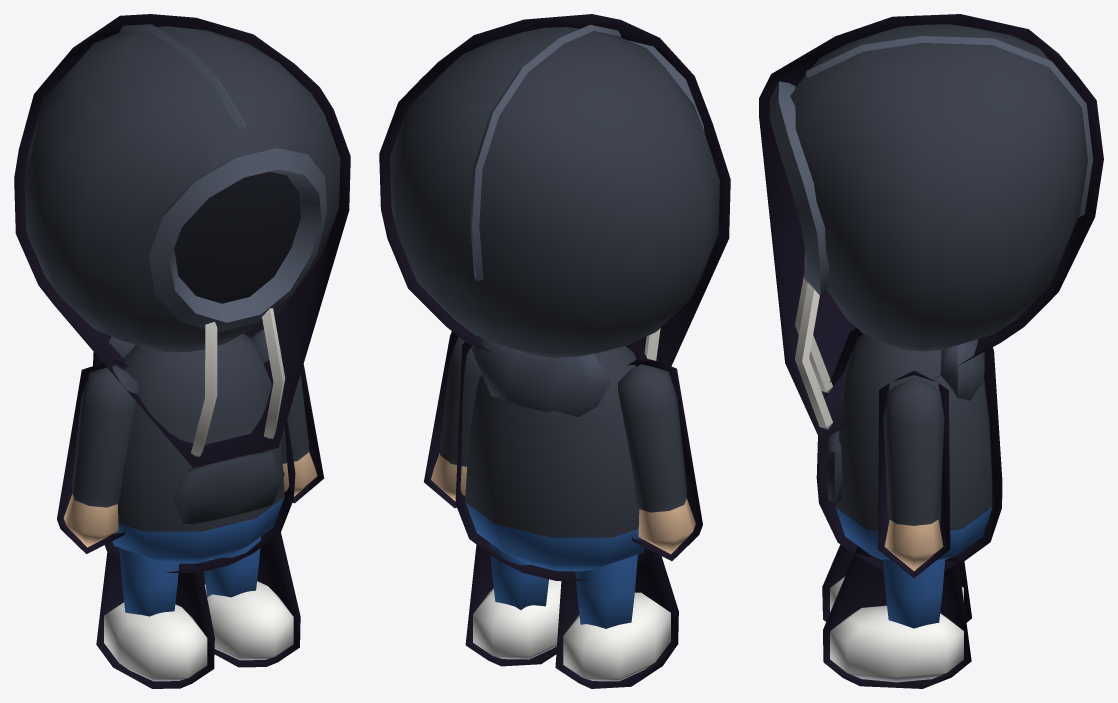
File: figur_kapuze.glb
3 renders of one model, left to right at view 1: azimuth 30°, elevation 25°; view 2: azimuth 150°, elevation 25°; view 3: azimuth 270°, elevation 25°, orthographic. The views are drawn at different scales.
Visible parts, largest first — view 1: kopf, koerper, bein_r, arm_r, bein_l, arm_l; view 2: kopf, koerper, bein_r, arm_r, bein_l, arm_l; view 3: kopf, koerper, bein_l, arm_l, bein_r.
Part boxes in pixels (x1,y1,x2,y2): kopf: (14,14,350,467); koerper: (93,327,295,572); bein_r: (96,548,214,688); arm_r: (57,358,138,553); bein_l: (202,517,300,667); arm_l: (251,323,324,503); kopf: (379,14,730,366); koerper: (455,333,652,580); bein_r: (555,552,678,688); arm_r: (618,357,702,560); bein_l: (465,543,561,666); arm_l: (424,331,481,508); kopf: (759,14,1103,440); koerper: (816,327,1002,570); bein_l: (823,546,971,688); arm_l: (877,370,950,577); bein_r: (822,544,971,622).
Bounding box in the file's own units: 0.6309 × 1.22 × 0.609.
